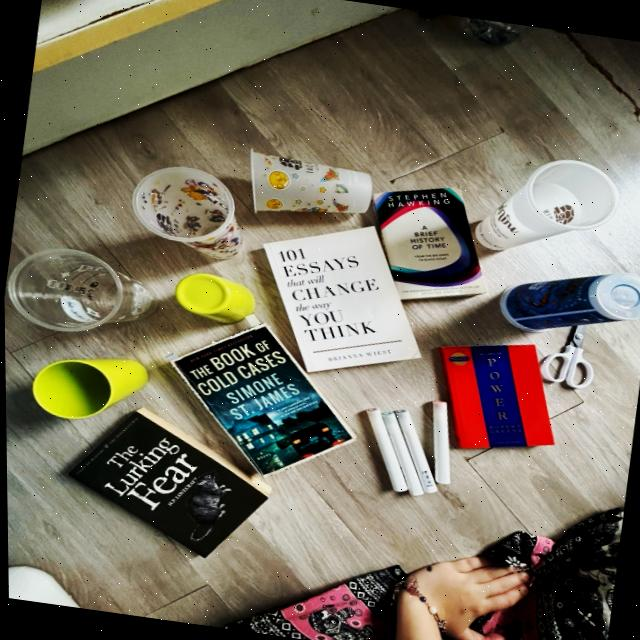Book: (68, 409, 270, 557), (167, 325, 353, 475), (264, 228, 419, 371), (374, 189, 484, 299), (440, 346, 551, 448)
HighLight Pen: (395, 411, 436, 492), (382, 413, 422, 495), (366, 410, 406, 492), (432, 401, 448, 484)
Plastic Cup: (476, 160, 618, 252), (8, 248, 152, 332), (132, 168, 241, 259), (499, 274, 640, 332), (251, 151, 372, 213)
Scissors: (540, 326, 592, 388)
WaterGlass: (32, 359, 147, 418), (176, 274, 254, 323)
